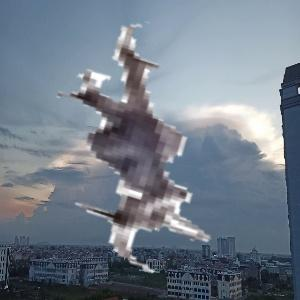drone: (19, 9, 287, 277)
